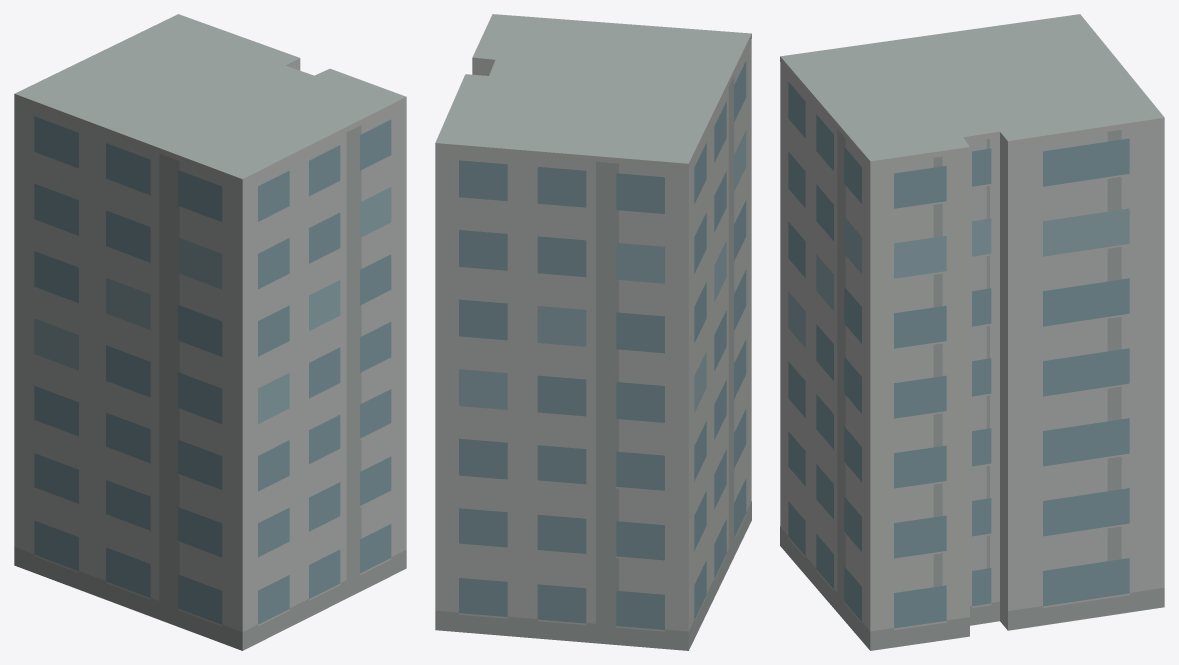
Rendered from survey-upis-32569039.glb.
The picture shows the model from 3 angles, left to right: view 1: azimuth 30°, elevation 25°; view 2: azimuth 150°, elevation 25°; view 3: azimuth 270°, elevation 25°; orthographic projection. The views are drawn at different scales.
Visible parts, largest first — view 1: survey-upis-32569039.tmp; view 2: survey-upis-32569039.tmp; view 3: survey-upis-32569039.tmp.
Boxes of the visible parts, box(x1,y1,x2,y2) form: survey-upis-32569039.tmp: box(14, 14, 406, 650); survey-upis-32569039.tmp: box(435, 14, 751, 650); survey-upis-32569039.tmp: box(780, 14, 1164, 650).
Size of the model in its own units: 13.63 by 21.1 by 15.03.
